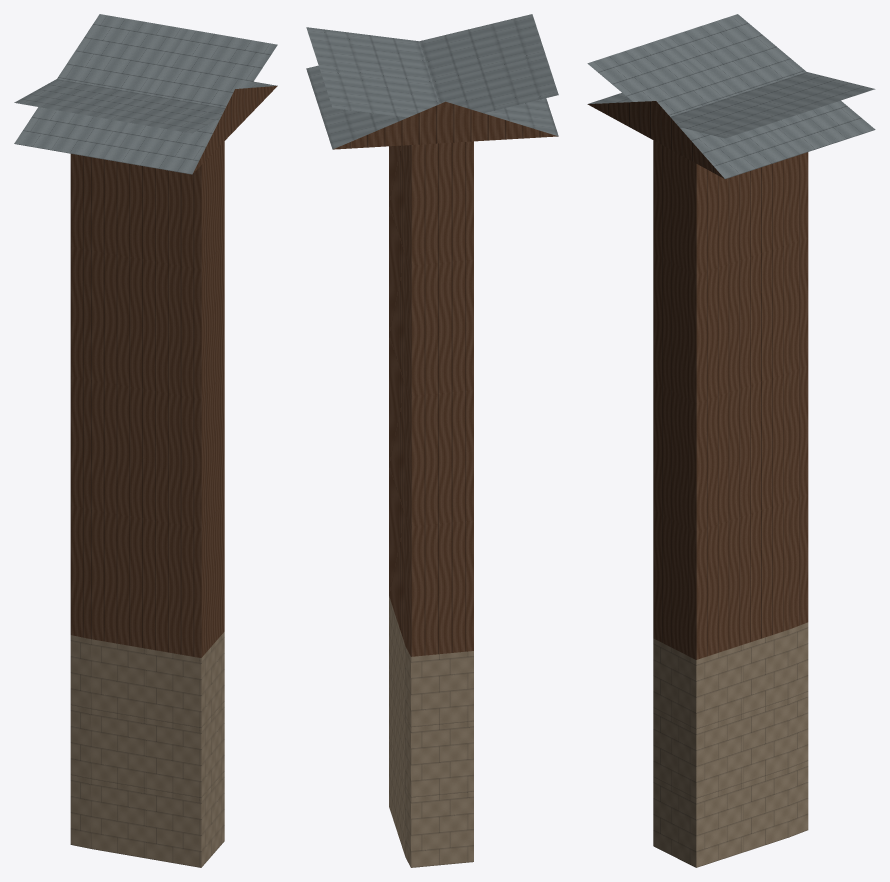
The model's file is bld_c3_-3_563.gltf.
The picture shows the model from 3 angles, left to right: view 1: azimuth 30°, elevation 25°; view 2: azimuth 150°, elevation 25°; view 3: azimuth 270°, elevation 25°; orthographic projection.
Parts seen in each view (by area): view 1: bld_c3_-3_563; view 2: bld_c3_-3_563; view 3: bld_c3_-3_563.
Boxes of the visible parts, bbox=[...] form: bld_c3_-3_563: bbox=[14, 14, 277, 867]; bld_c3_-3_563: bbox=[306, 14, 558, 867]; bld_c3_-3_563: bbox=[587, 14, 875, 867].
Size of the model in its own units: 6.55 by 18.7 by 6.42.
Materials: 4 (4 with a texture image).
